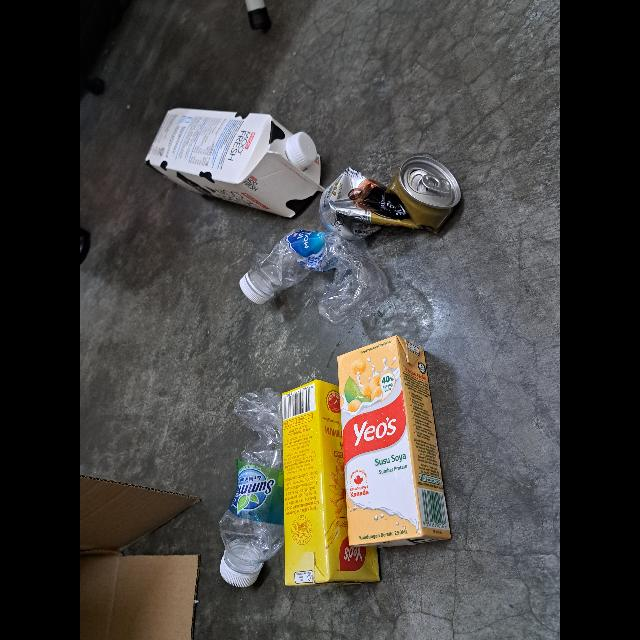aba de lata: (422, 175, 452, 192)
caixinha: (336, 336, 452, 548), (281, 378, 379, 586), (146, 108, 326, 218)
garrafa plástica: (248, 228, 390, 326), (220, 387, 282, 563)
lata: (318, 156, 462, 242)
papelão: (80, 470, 200, 640)
tampa plástica: (218, 556, 262, 588), (287, 132, 317, 168), (239, 276, 269, 304)
